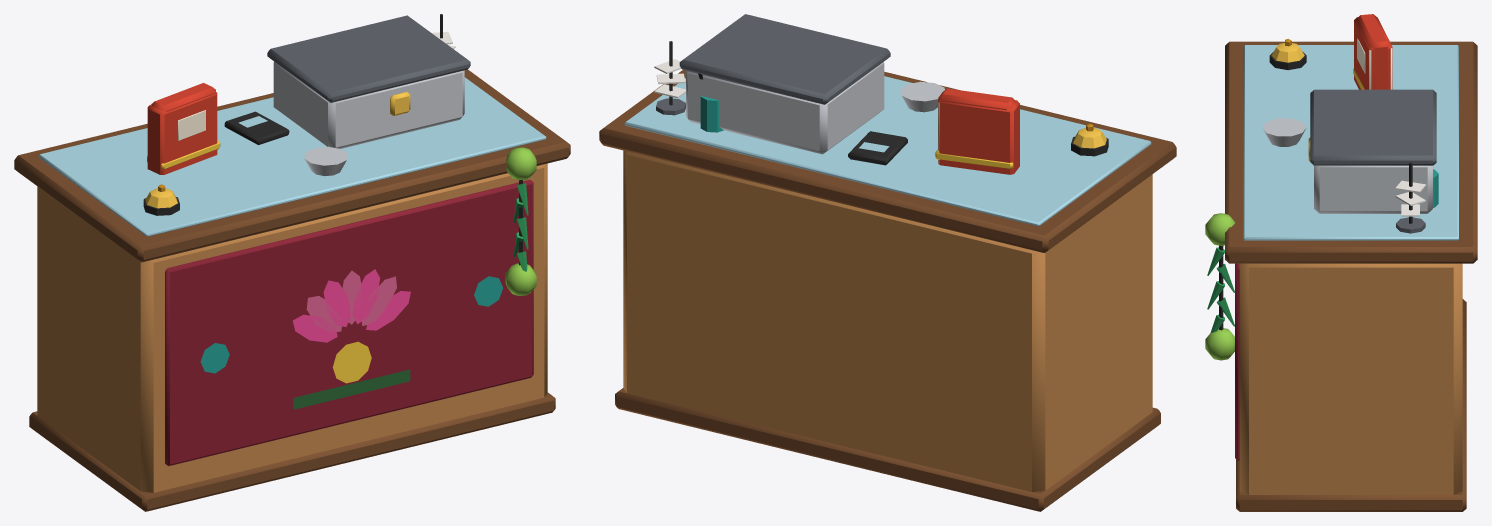
The model's file is galla_desk.glb.
3 renders of one model, left to right at view 1: azimuth 30°, elevation 25°; view 2: azimuth 150°, elevation 25°; view 3: azimuth 270°, elevation 25°, orthographic. The views are drawn at different scales.
Visible parts, largest first — view 1: galla_desk; view 2: galla_desk; view 3: galla_desk.
Part boxes in pixels (<box>): galla_desk: <box>14,14,570,511</box>; galla_desk: <box>599,14,1176,511</box>; galla_desk: <box>1205,14,1477,511</box>.
Size of the model in its own units: 1.33 by 1 by 0.7328.
1 material, 1 textured.
